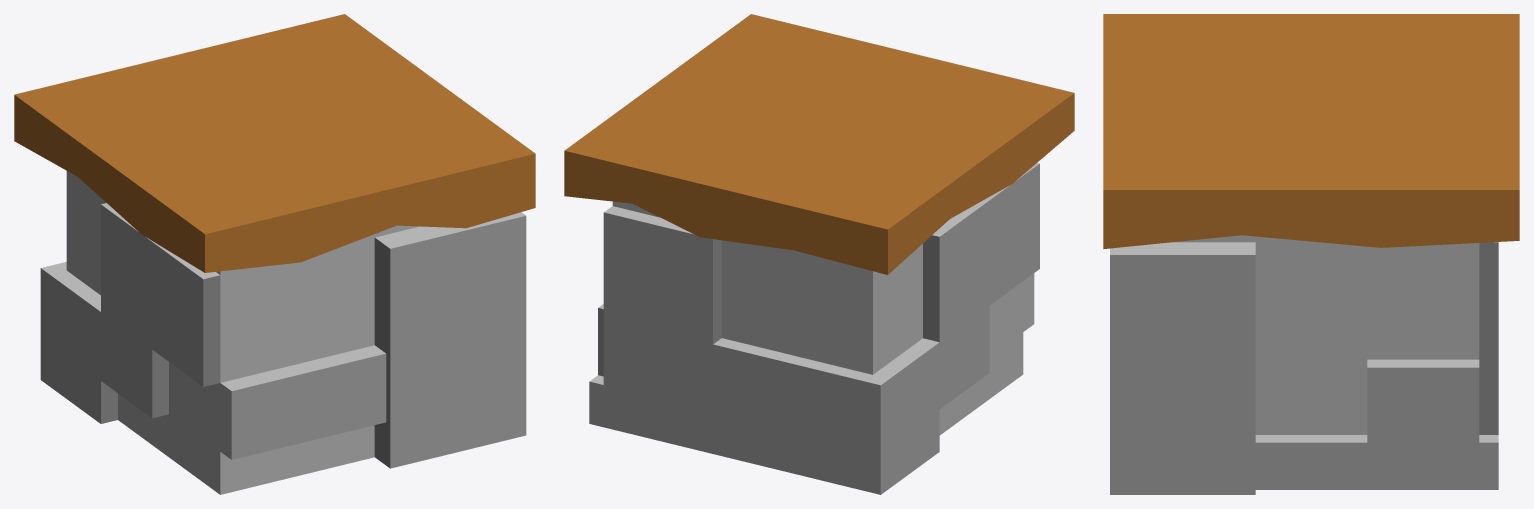
File: Monton_fall.obj
3 renders of one model, left to right at view 1: azimuth 30°, elevation 25°; view 2: azimuth 150°, elevation 25°; view 3: azimuth 270°, elevation 25°, orthographic. The views are drawn at different scales.
Parts seen in each view (by area): view 1: Cube.142; view 2: Cube.142; view 3: Cube.142.
Boxes of the visible parts, x1,y1,x2,y2 form: Cube.142: (14, 14, 535, 494); Cube.142: (564, 14, 1074, 494); Cube.142: (1103, 14, 1519, 494).
Bounding box in the file's own units: 2.48 × 2.03 × 2.48.
